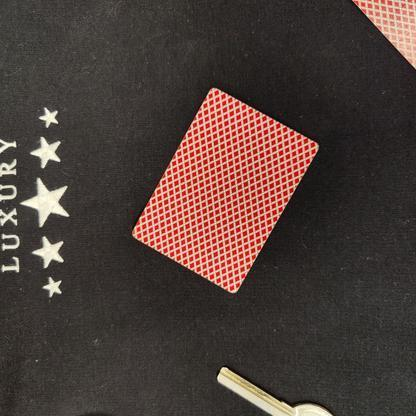card: (120, 80, 332, 302)
